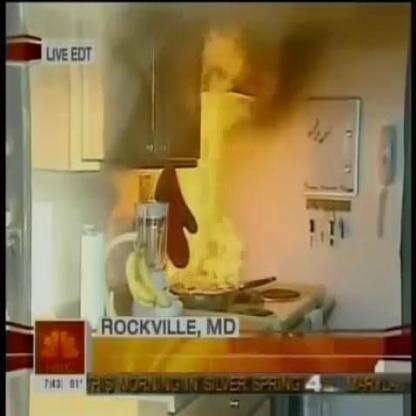fire: (150, 32, 256, 297)
